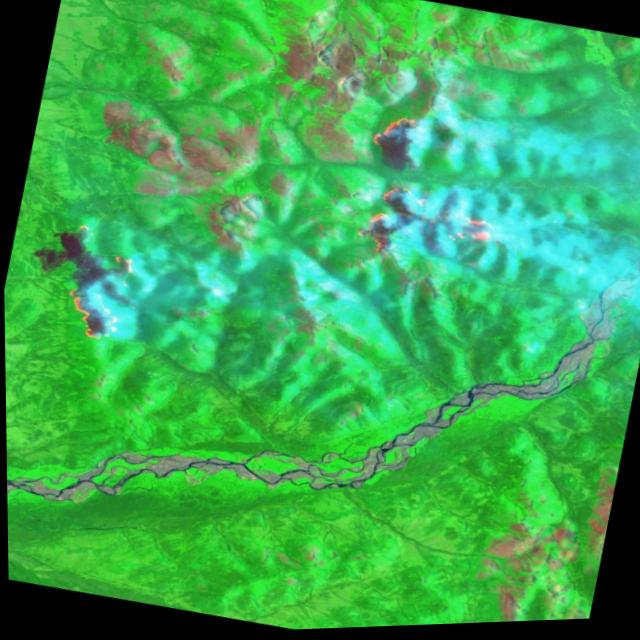fire: (339, 100, 522, 281), (43, 210, 151, 349)
